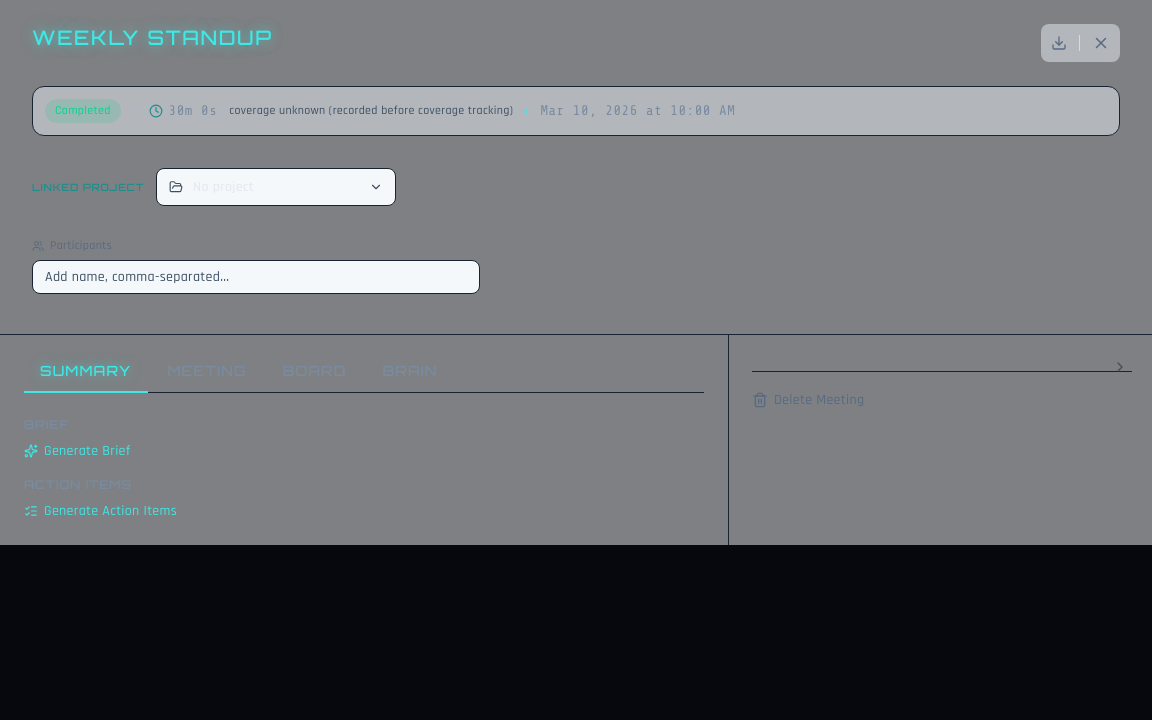
Test: SessionWorkspace — routed session page › switches to the Board tab and shows the no-project empty state
Click the tab "Board". click: (315,372)
box: [267,351,362,393]
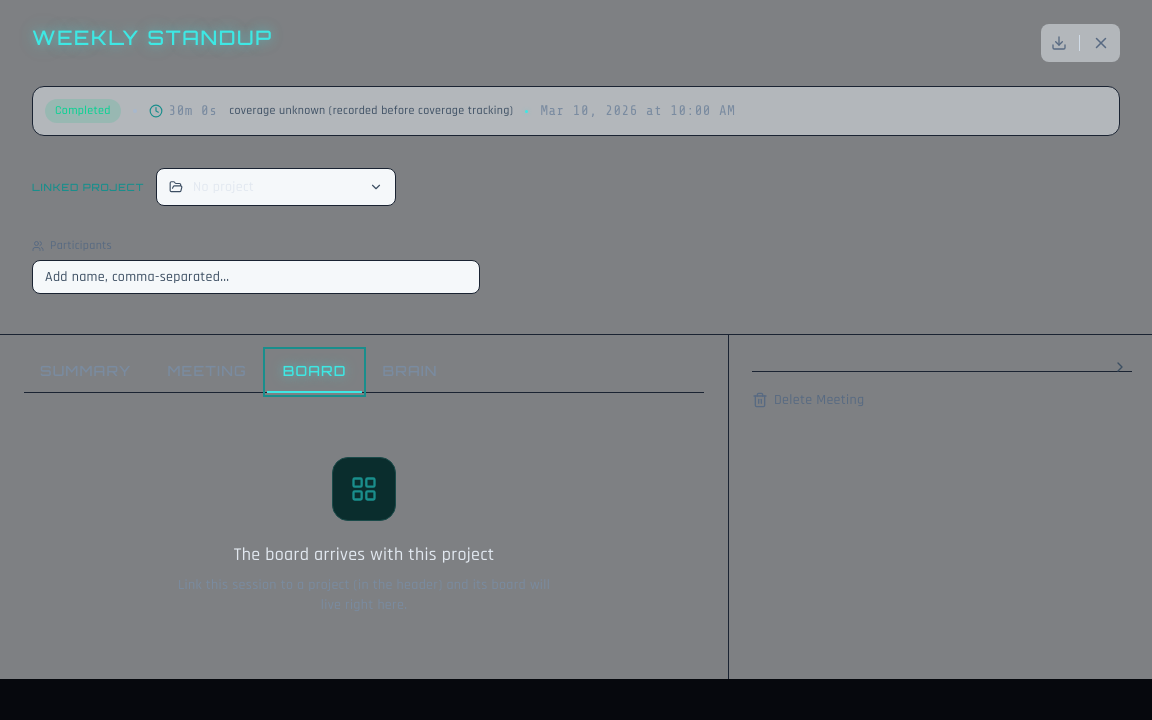
expect the heading "The board arrives with this project" is shown: met, box [234,541,494,569]
